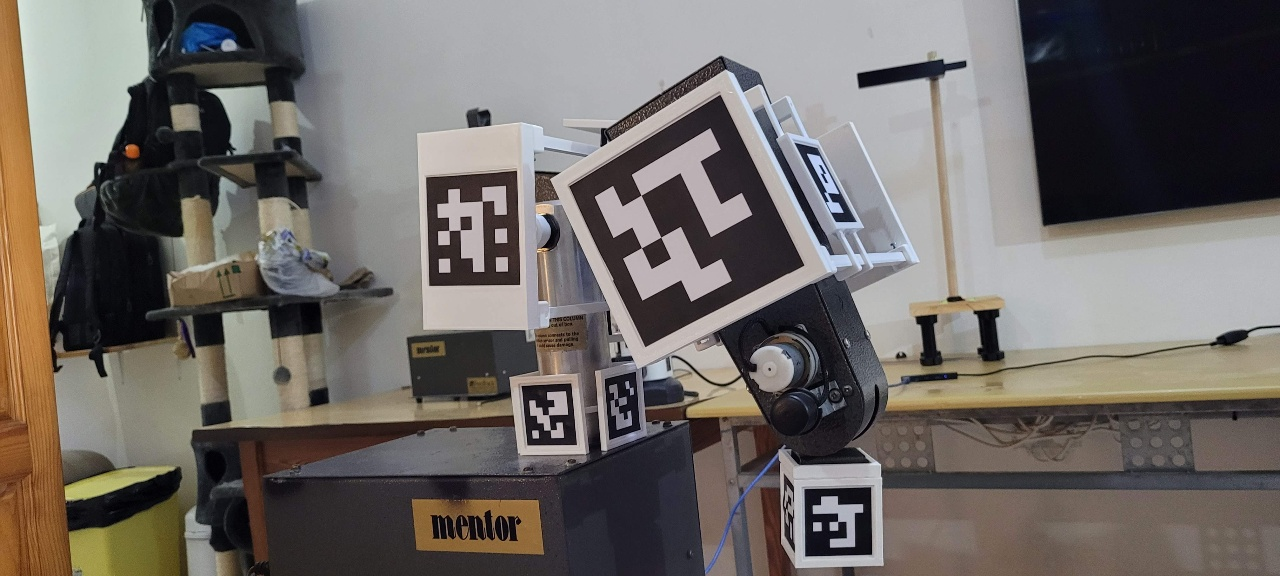Robot: (415, 57, 922, 571)
